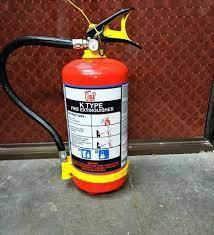Fire Extinguisher: (3, 4, 154, 199)
